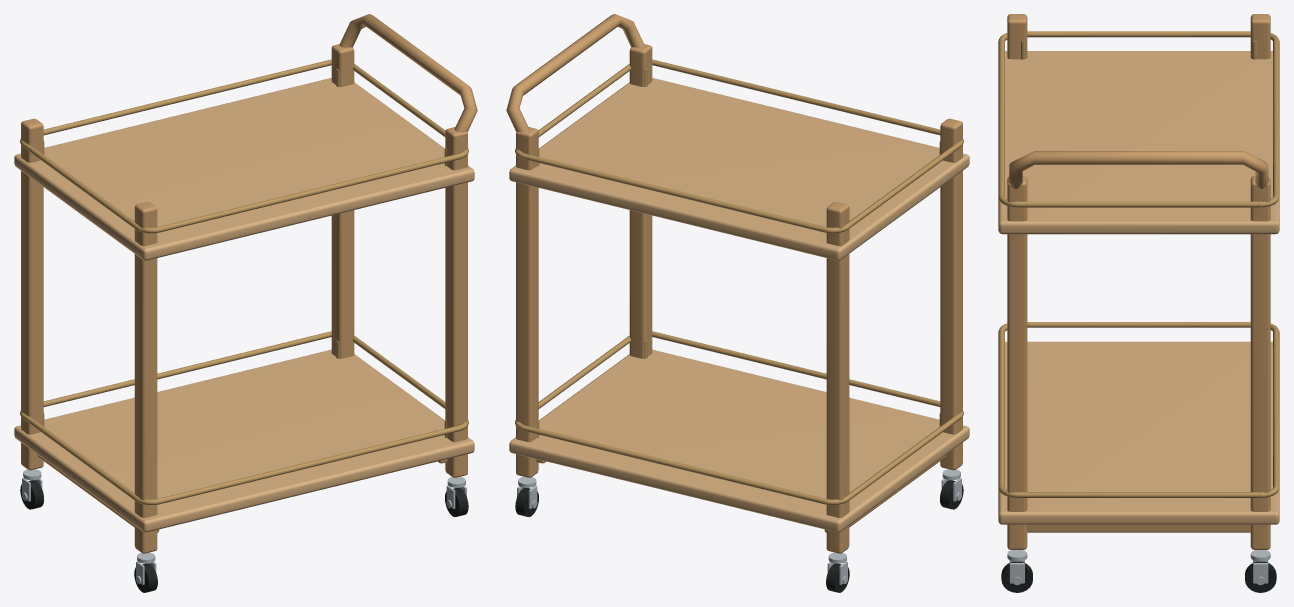
File: bar-cart.glb
The picture shows the model from 3 angles, left to right: view 1: azimuth 30°, elevation 25°; view 2: azimuth 150°, elevation 25°; view 3: azimuth 270°, elevation 25°; orthographic projection. The views are drawn at different scales.
Visible parts, largest first — view 1: bar-cart authored assembly; view 2: bar-cart authored assembly; view 3: bar-cart authored assembly.
Boxes of the visible parts, x1=… form: bar-cart authored assembly: x1=14, y1=14, x2=477, y2=592; bar-cart authored assembly: x1=506, y1=14, x2=969, y2=592; bar-cart authored assembly: x1=998, y1=14, x2=1279, y2=592.
Bounding box in the file's own units: 0.68 × 0.791 × 0.45.
